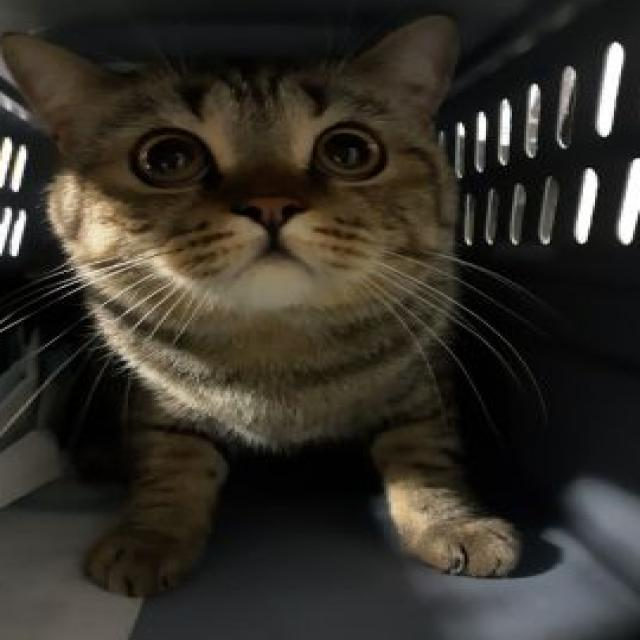Scottish Fold: (0, 11, 538, 586)
